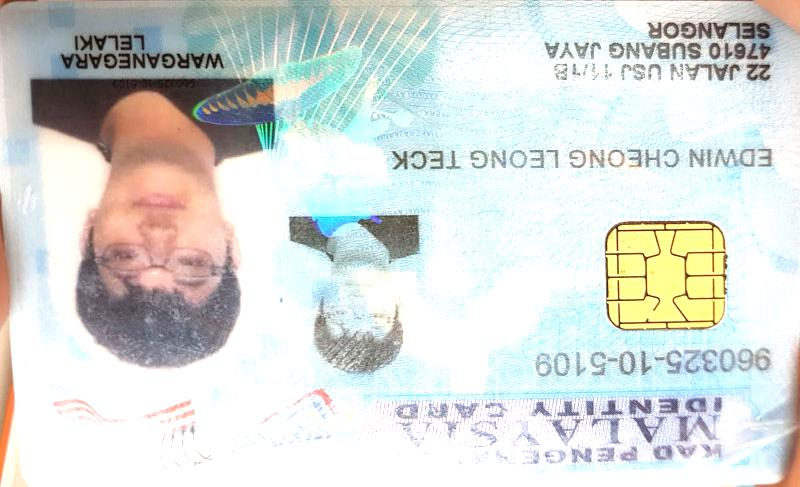hologramB: (274, 7, 395, 213)
